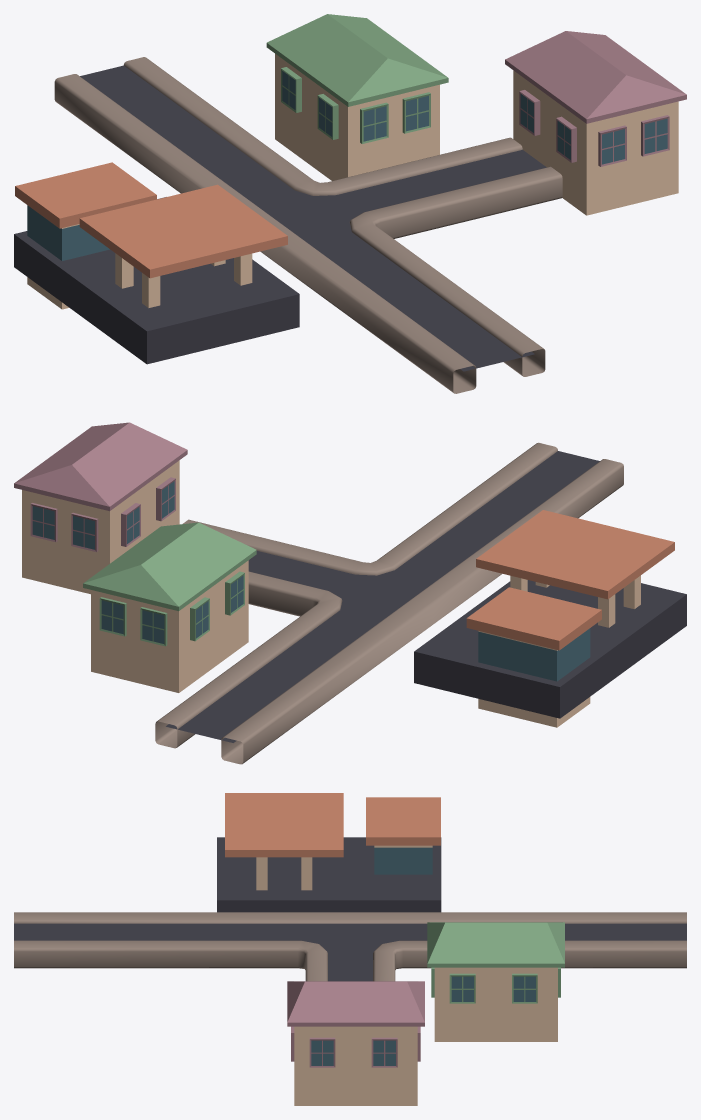
Rendered from straight1.glb.
3 renders of one model, top to bottom at view 1: azimuth 30°, elevation 25°; view 2: azimuth 150°, elevation 25°; view 3: azimuth 270°, elevation 25°, orthographic. The views are drawn at different scales.
Visible parts, largest first — view 1: road.005, flat roof.007, gas station.002, house.031, 1 story.006, 1 story.005, house.032, conv store.002, window.065, window.069, window.068, window.072 (+1 smaller); view 2: road.005, flat roof.007, gas station.002, house.032, conv store.002, 1 story.006, 1 story.005, house.031, window.066, window.070, window.072, window.068; view 3: road.005, flat roof.007, house.031, house.032, gas station.002, 1 story.005, 1 story.006, conv store.002, window.067, window.071.
Boxes of the visible parts, x1=… form: road.005: x1=54, y1=57, x2=562, y2=393; flat roof.007: x1=14, y1=197, x2=299, y2=364; gas station.002: x1=79, y1=184, x2=287, y2=278; house.031: x1=513, y1=70, x2=678, y2=215; 1 story.006: x1=266, y1=14, x2=448, y2=106; 1 story.005: x1=505, y1=31, x2=686, y2=123; house.032: x1=275, y1=54, x2=439, y2=180; conv store.002: x1=15, y1=162, x2=156, y2=309; window.065: x1=598, y1=115, x2=669, y2=166; window.069: x1=360, y1=92, x2=430, y2=143; window.068: x1=519, y1=90, x2=576, y2=162; window.072: x1=281, y1=67, x2=338, y2=139; road.005: x1=155, y1=442, x2=623, y2=764; flat roof.007: x1=414, y1=580, x2=686, y2=718; gas station.002: x1=476, y1=510, x2=674, y2=599; house.032: x1=91, y1=560, x2=248, y2=692; conv store.002: x1=466, y1=587, x2=601, y2=727; 1 story.006: x1=83, y1=522, x2=256, y2=611; 1 story.005: x1=14, y1=422, x2=187, y2=511; house.031: x1=22, y1=460, x2=179, y2=594; window.066: x1=30, y1=503, x2=98, y2=552; window.070: x1=99, y1=597, x2=167, y2=646; window.072: x1=190, y1=571, x2=244, y2=641; window.068: x1=121, y1=477, x2=175, y2=546; road.005: x1=14, y1=912, x2=686, y2=981; flat roof.007: x1=217, y1=837, x2=441, y2=912; house.031: x1=294, y1=1026, x2=417, y2=1105; house.032: x1=434, y1=967, x2=557, y2=1041; gas station.002: x1=225, y1=793, x2=343, y2=857; 1 story.005: x1=287, y1=981, x2=424, y2=1026; 1 story.006: x1=427, y1=922, x2=564, y2=967; conv store.002: x1=366, y1=797, x2=440, y2=874; window.067: x1=309, y1=1037, x2=397, y2=1067; window.071: x1=449, y1=973, x2=537, y2=1003.
Bounding box in the file's own units: 101 × 22.7 × 120.
